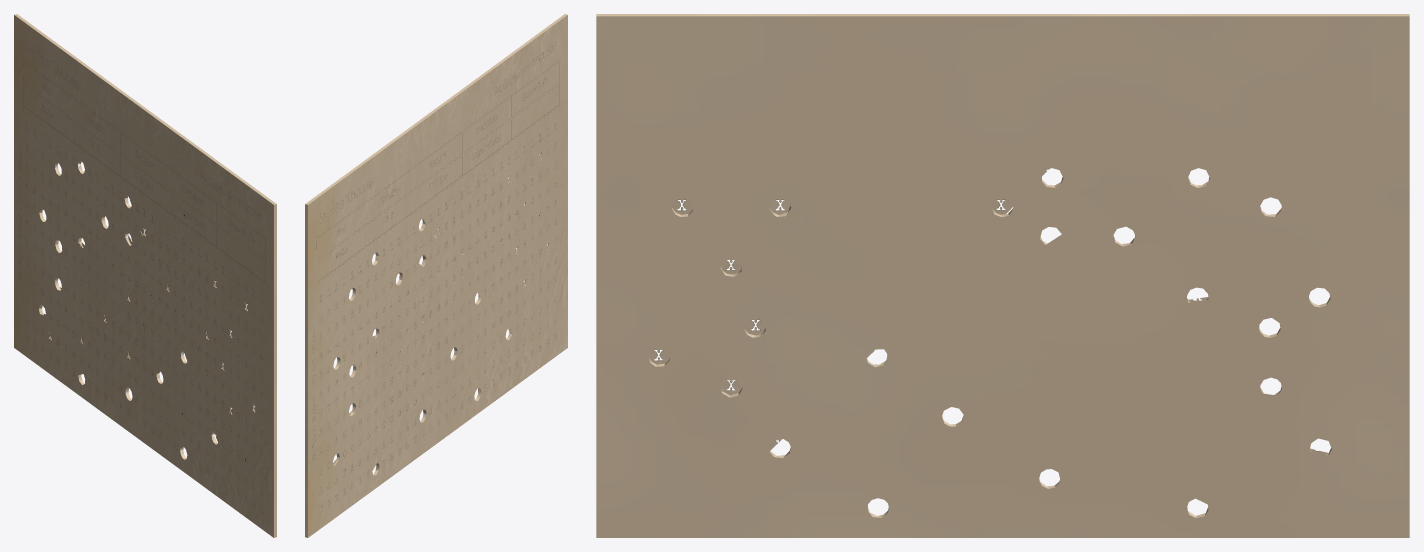
The model's file is employeeCard13Aadi.fbx.
The picture shows the model from 3 angles, left to right: view 1: azimuth 30°, elevation 25°; view 2: azimuth 150°, elevation 25°; view 3: azimuth 270°, elevation 25°; orthographic projection. The views are drawn at different scales.
Parts seen in each view (by area): view 1: Employee 13 Card Puzzle Punched; view 2: Employee 13 Card Puzzle Punched; view 3: Employee 13 Card Puzzle Punched.
Part boxes in pixels (<box>): Employee 13 Card Puzzle Punched: <box>14,14,276,537</box>; Employee 13 Card Puzzle Punched: <box>305,14,567,537</box>; Employee 13 Card Puzzle Punched: <box>596,14,1409,537</box>.
Bounding box in the file's own units: 0.9779 × 100 × 141.
1 material, 1 textured.
